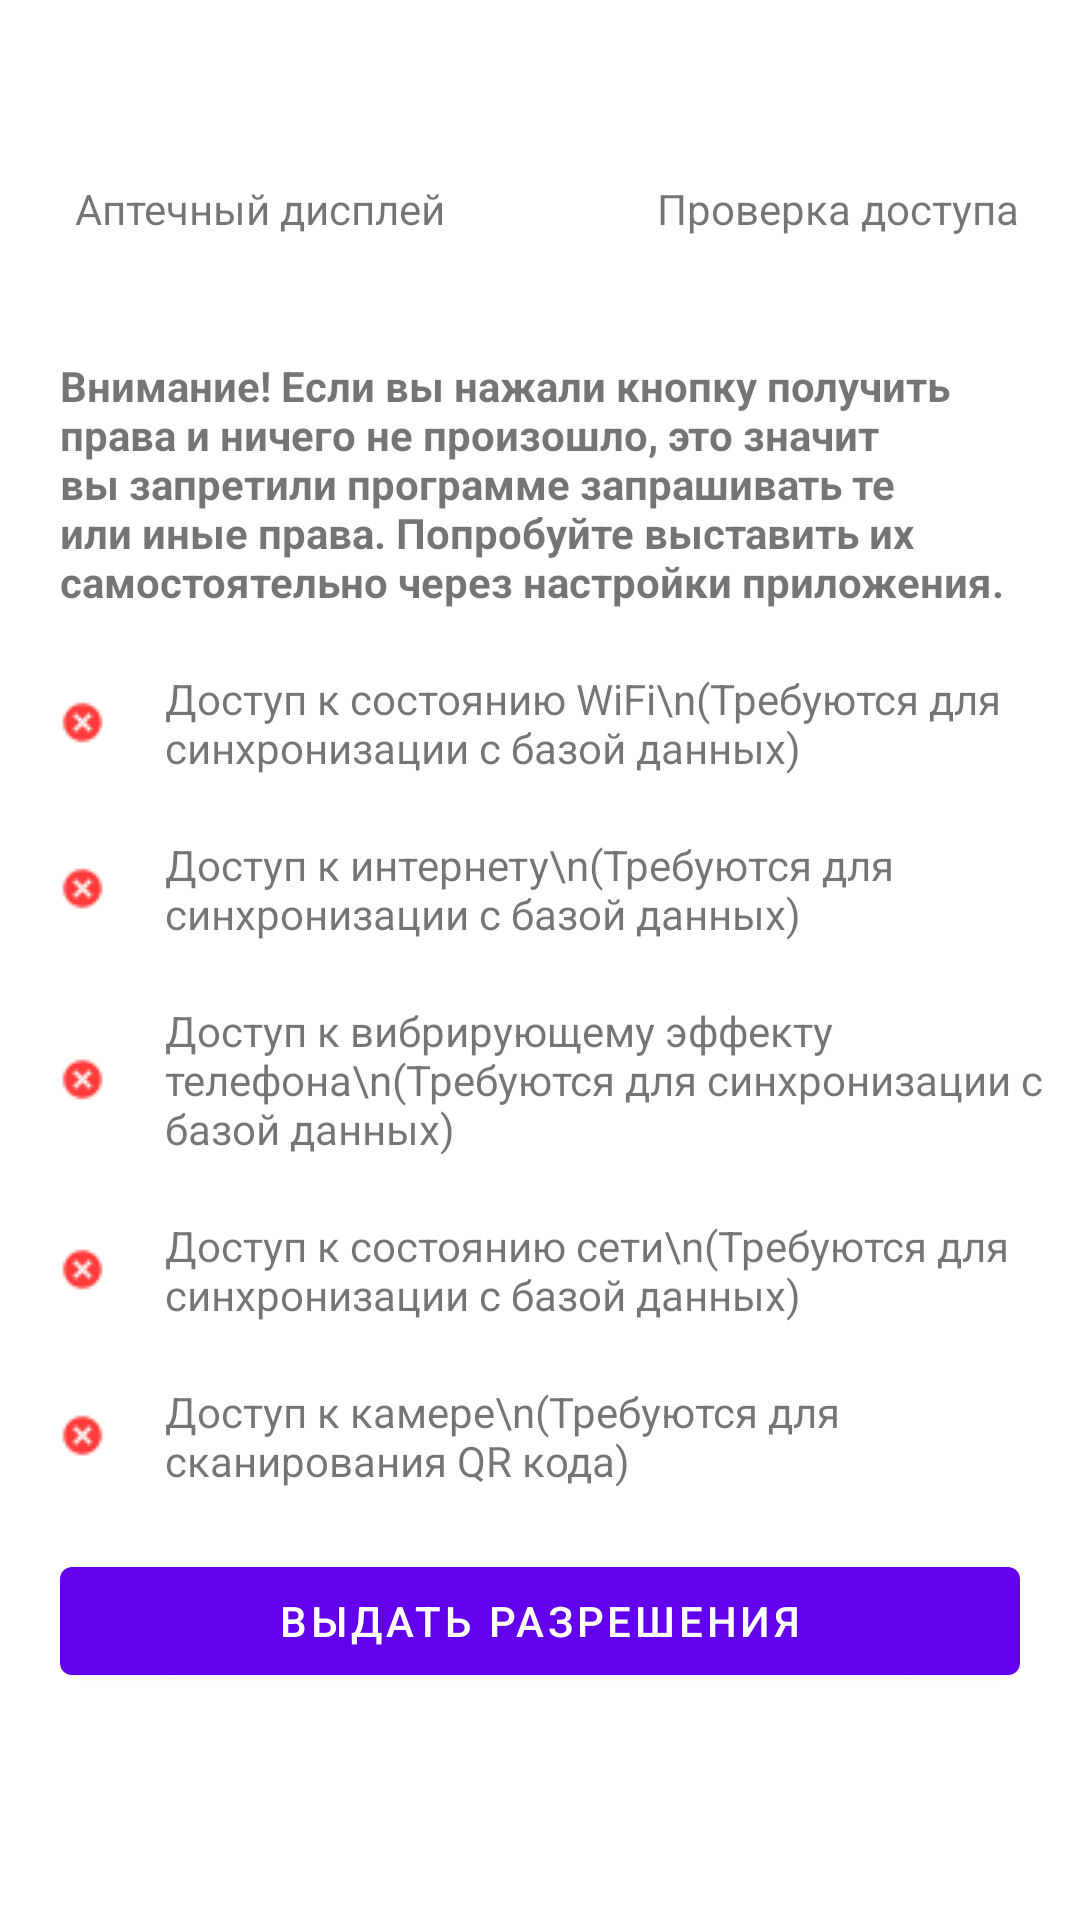

Named icons in this screenshot (1080×1920) and their bounding boxes, (x1, y1, x2, y2):
erroricon: (62, 702, 103, 743), (62, 868, 103, 909), (62, 1059, 103, 1100), (62, 1249, 103, 1290), (62, 1415, 103, 1456)
